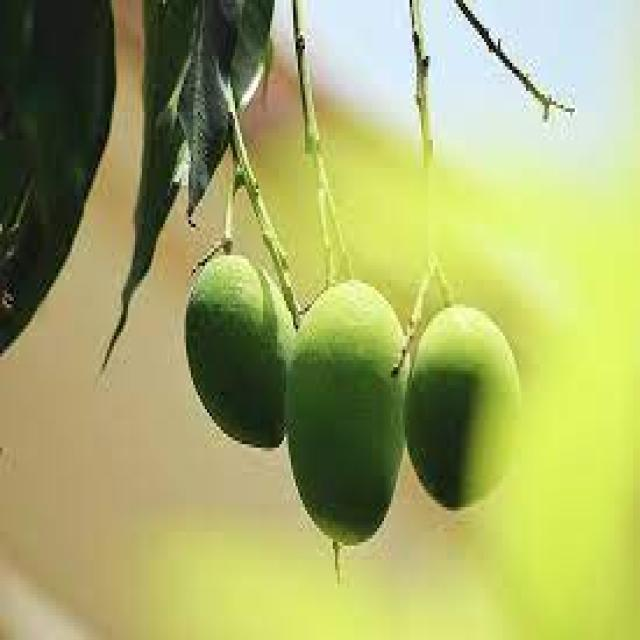Mango: (288, 244, 412, 550), (406, 302, 527, 512), (186, 250, 292, 449)
